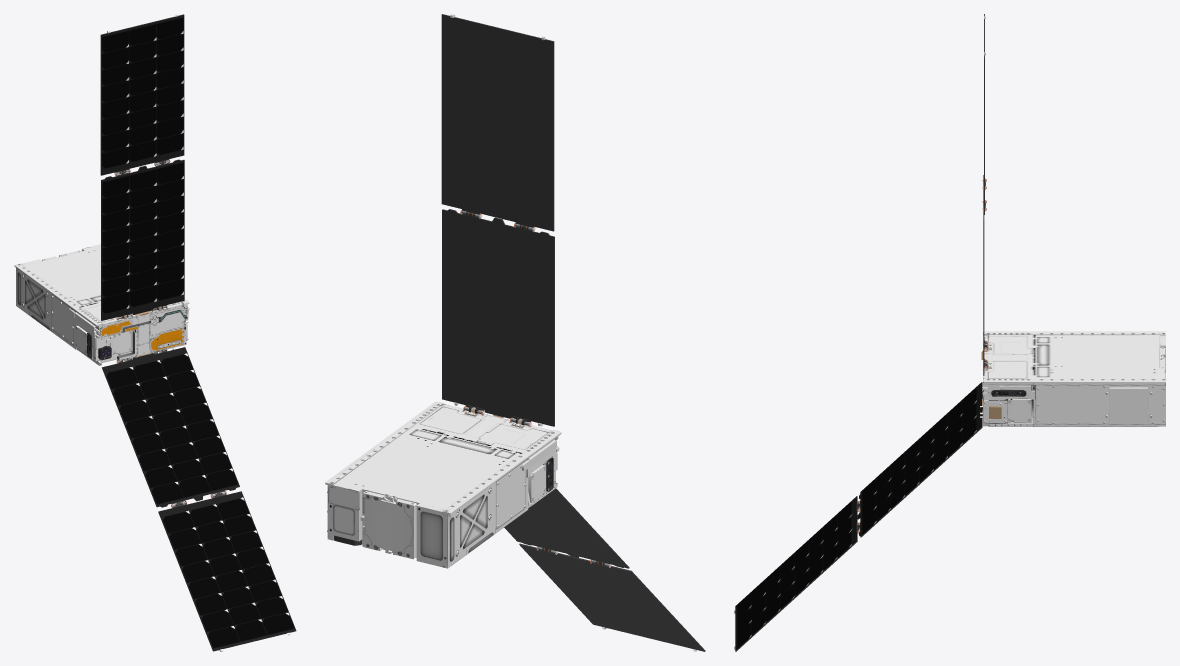
File: prefire.gltf
3 views of the same model, side by side, from view 1: azimuth 30°, elevation 25°; view 2: azimuth 150°, elevation 25°; view 3: azimuth 270°, elevation 25° (orthographic). The views are drawn at different scales.
Parts seen in each view (by area): view 1: NoUVs.001, Arrays, BUS1, BUS2, NoUVs.004, BUS3; view 2: NoUVs.004, BUS1, NoUVs.001, BUS2, BUS3; view 3: BUS1, NoUVs.001, NoUVs.004, BUS3, BUS2.
Boxes of the visible parts, x1,y1,x2,y2 form: NoUVs.001: (102, 347, 296, 651); Arrays: (101, 15, 184, 320); BUS1: (18, 244, 184, 365); BUS2: (14, 259, 187, 360); NoUVs.004: (42, 14, 189, 363); BUS3: (73, 318, 111, 360); NoUVs.004: (325, 14, 558, 558); BUS1: (327, 404, 557, 565); NoUVs.001: (504, 488, 705, 651); BUS2: (334, 402, 561, 568); BUS3: (528, 448, 557, 502); BUS1: (988, 333, 1165, 426); NoUVs.001: (734, 382, 982, 651); NoUVs.004: (980, 14, 1165, 423); BUS3: (984, 387, 1035, 422); BUS2: (983, 331, 1165, 426).
Bounding box in the file's own units: 0.1959 × 1.08 × 0.7078.
14 materials, 3 textured.
